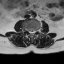CCS_normal: (30, 28, 32, 37)
LFS_normal: (34, 27, 36, 34)
LLS_normal: (32, 28, 34, 36)
RFS_normal: (26, 26, 28, 33)
RLS_normal: (28, 28, 30, 36)
